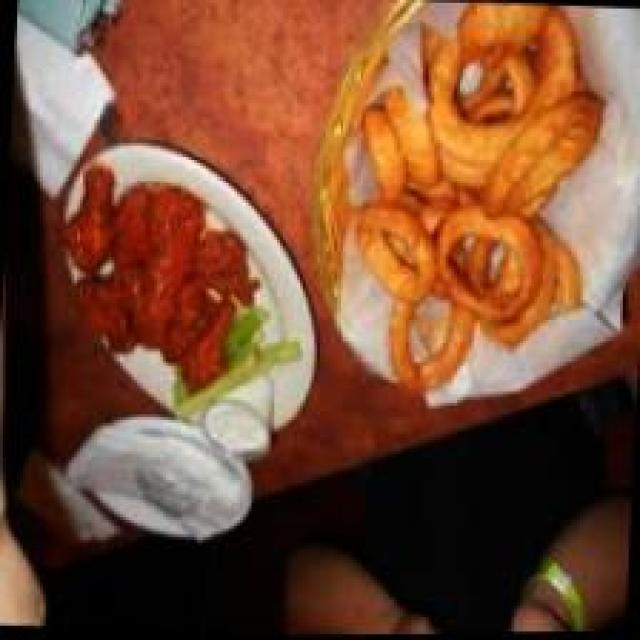Chicken Wings: (43, 156, 280, 396)
Onion Rings: (328, 0, 608, 409)
